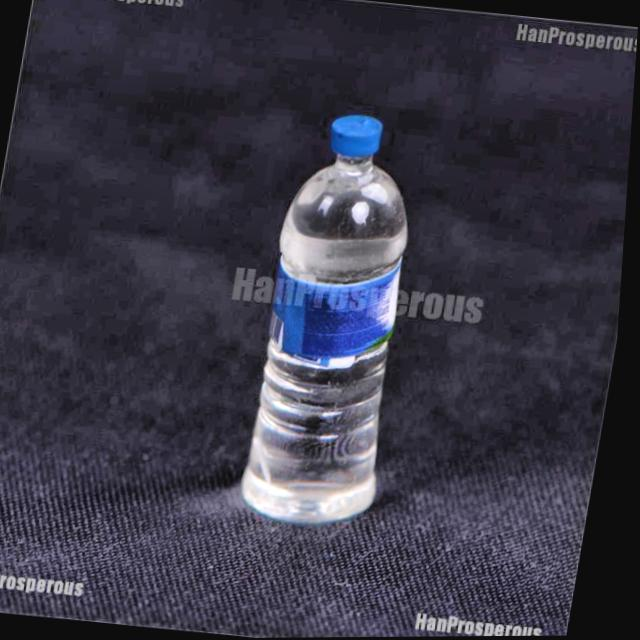Bottles: (216, 96, 465, 556)
